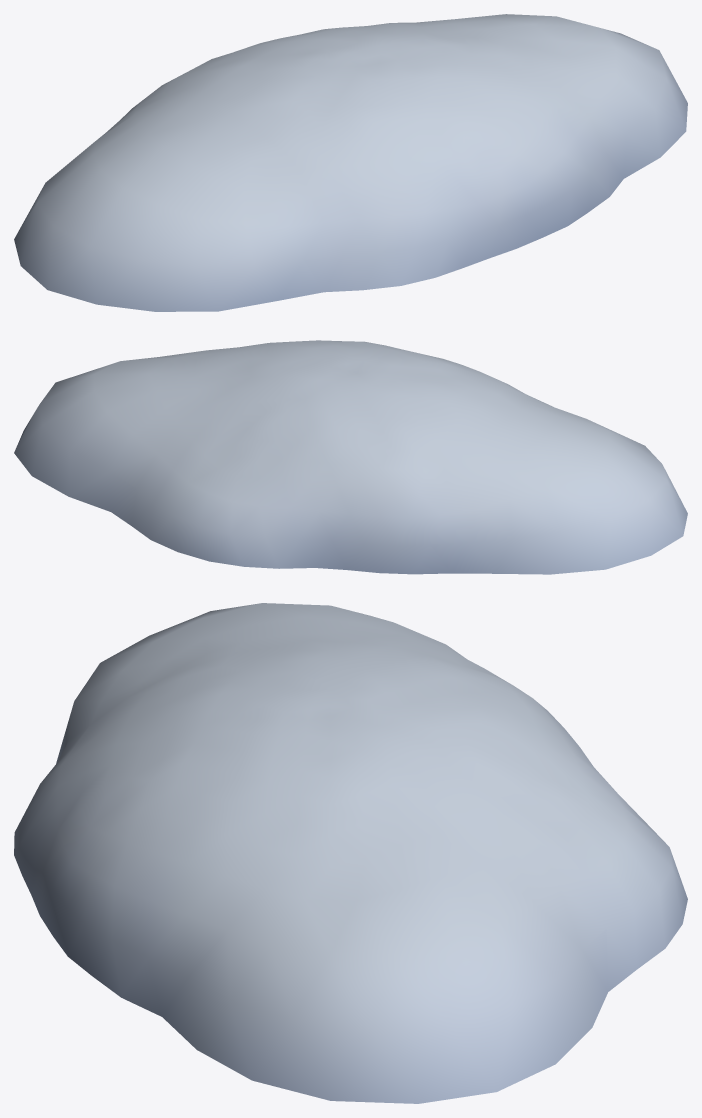
Rendered from Snowdrift.fbx.
3 renders of one model, top to bottom at view 1: azimuth 30°, elevation 25°; view 2: azimuth 150°, elevation 25°; view 3: azimuth 270°, elevation 25°, orthographic. The views are drawn at different scales.
Parts seen in each view (by area): view 1: Snowdrift; view 2: Snowdrift; view 3: Snowdrift.
Boxes of the visible parts, <box> form: Snowdrift: <box>14,14,687,311</box>; Snowdrift: <box>14,340,687,574</box>; Snowdrift: <box>14,603,687,1103</box>.
Size of the model in its own units: 2.21 by 0.3901 by 1.39.
